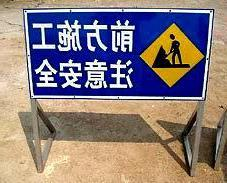sign: (24, 10, 213, 100)
